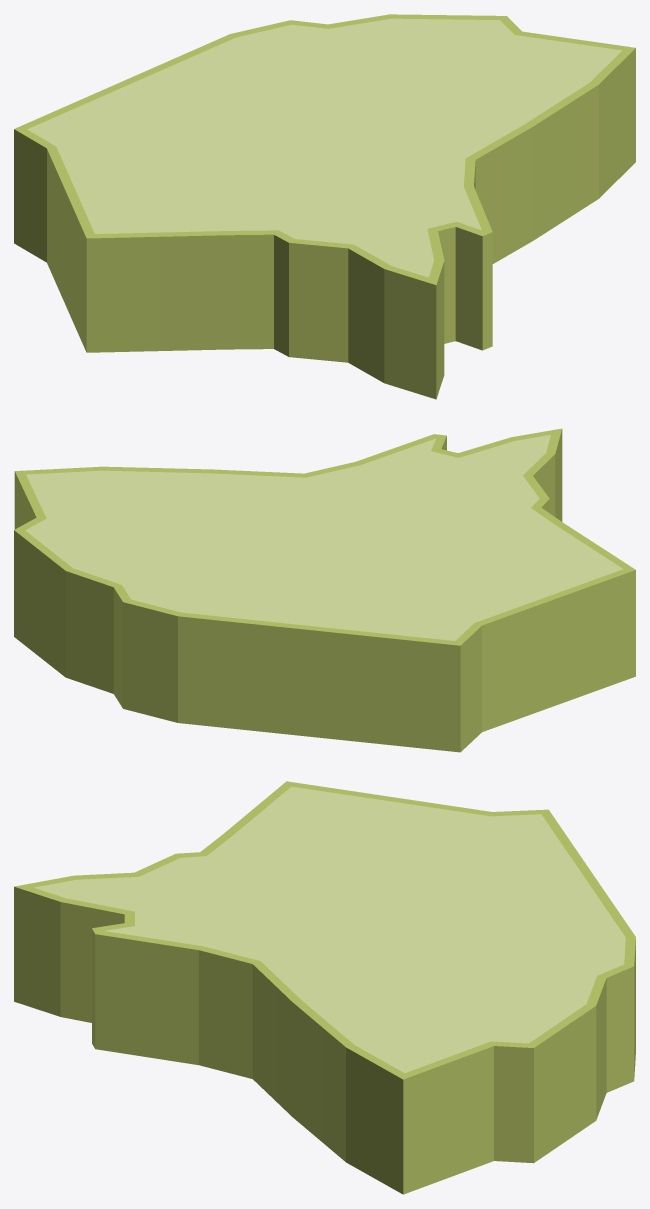
File: Islands1.007.fbx
3 views of the same model, one above another, from view 1: azimuth 30°, elevation 25°; view 2: azimuth 150°, elevation 25°; view 3: azimuth 270°, elevation 25° (orthographic). The views are drawn at different scales.
Visible parts, largest first — view 1: Island1.007; view 2: Island1.007; view 3: Island1.007.
Part boxes in pixels (x1=…): Island1.007: x1=14, y1=14, x2=635, y2=399; Island1.007: x1=14, y1=428, x2=635, y2=752; Island1.007: x1=14, y1=781, x2=635, y2=1194.
Size of the model in its own units: 139 by 25 by 122.
